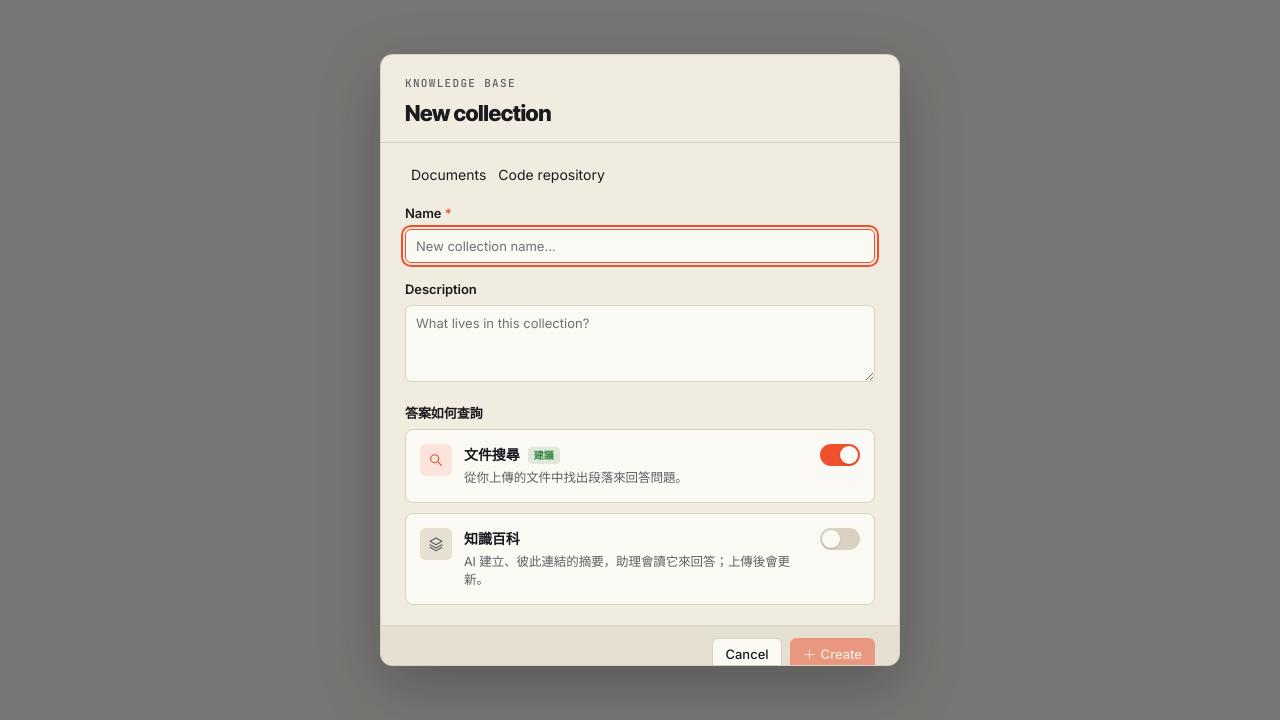
Test: NewCollectionModal — Documents mode (#50) › disables Create when no retrieval mode is selected
Type "X" into the field with placeholder "New collection name…" at (640, 246), box [405, 229, 875, 263]
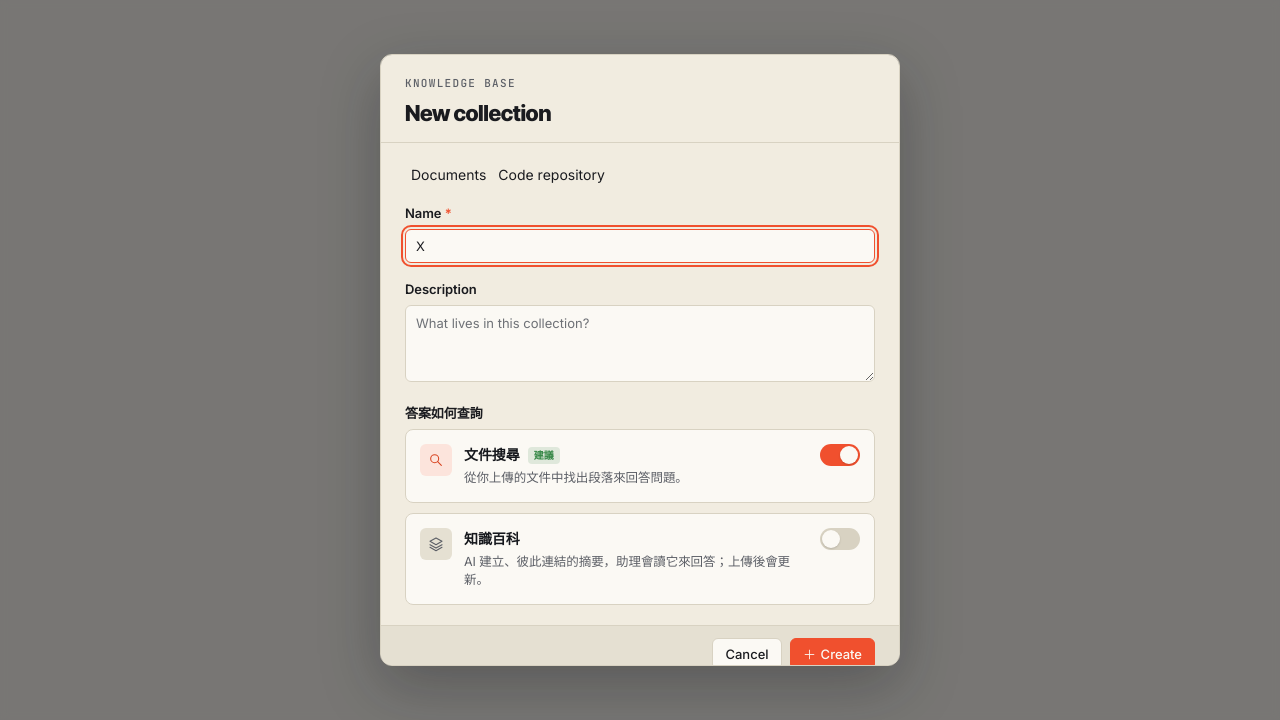
Click the switch named "文件搜尋" at (840, 455), box [820, 444, 860, 466]
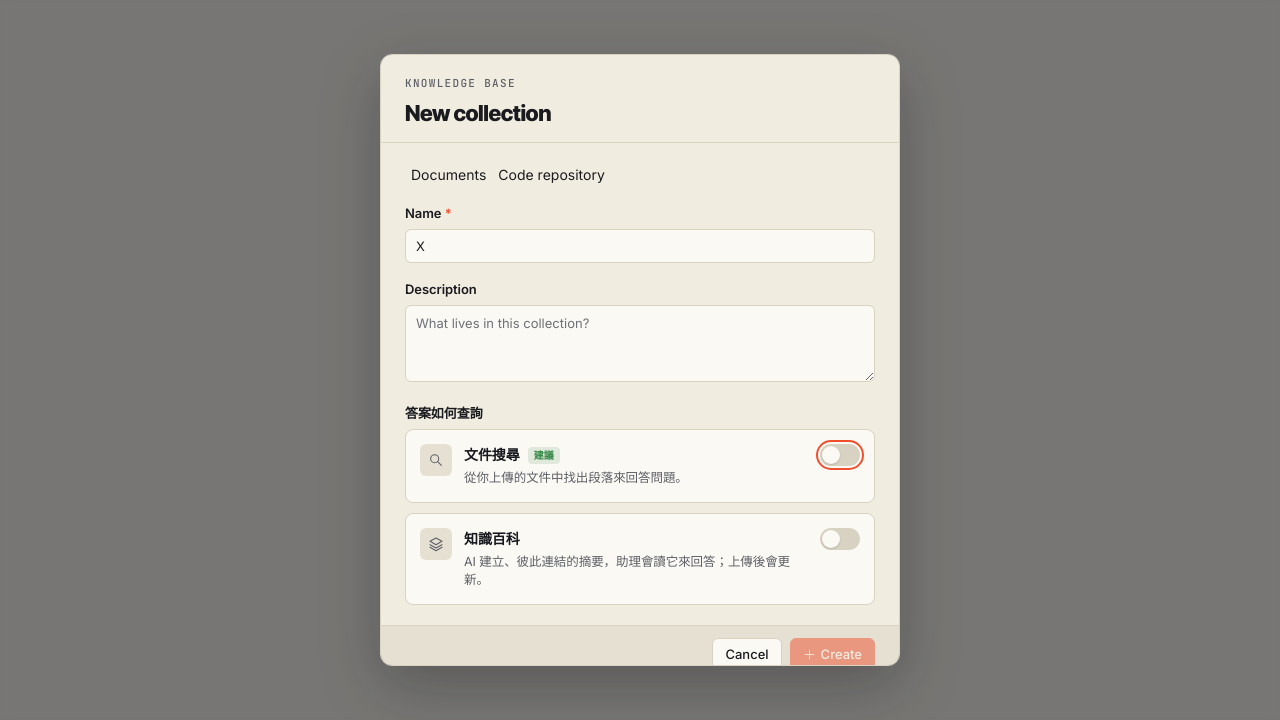
expect the button "Create" is disabled: met, box [790, 638, 875, 666]
